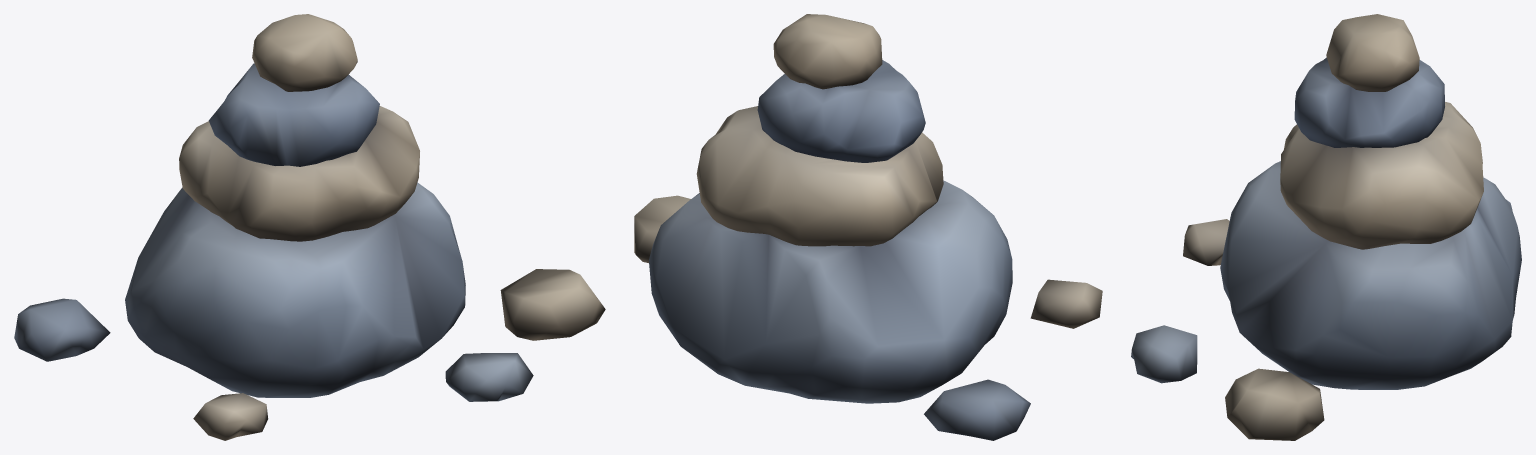
The model's file is prop-scav-riverStone-full.glb.
3 views of the same model, side by side, from view 1: azimuth 30°, elevation 25°; view 2: azimuth 150°, elevation 25°; view 3: azimuth 270°, elevation 25° (orthographic). The views are drawn at different scales.
Visible parts, largest first — view 1: body; view 2: body; view 3: body.
Part boxes in pixels (box(x1,y1,x2,y2)): body: box(14, 14, 605, 440); body: box(634, 14, 1102, 440); body: box(1131, 14, 1521, 440).
Size of the model in its own units: 1.1 by 0.7057 by 0.7905.
